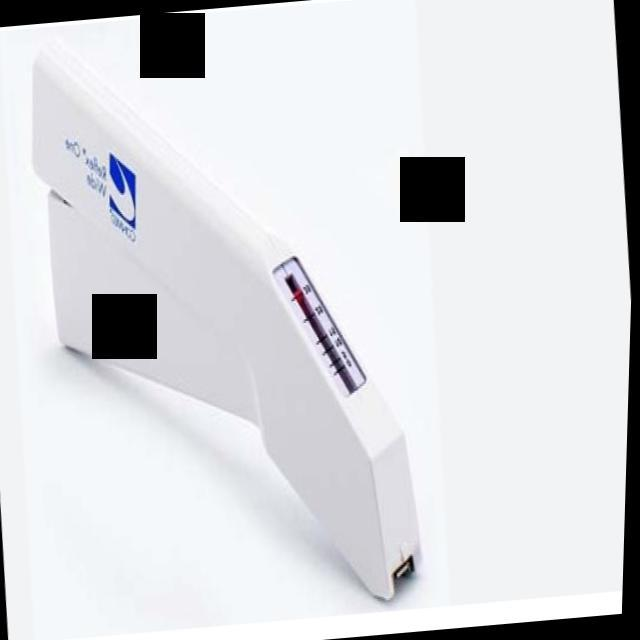Senn Retractor: (15, 11, 449, 632)
